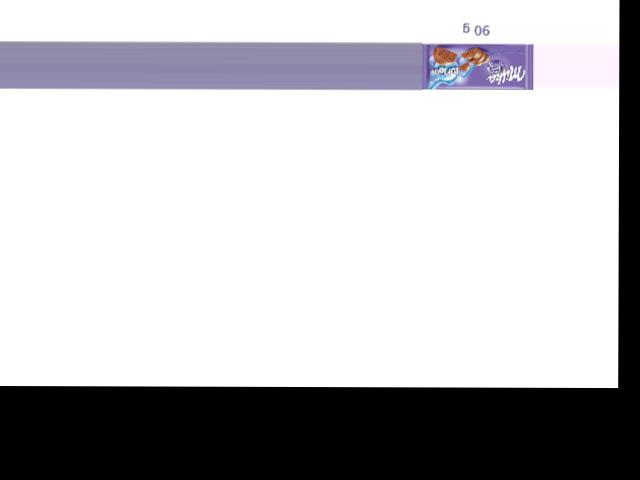chocolate: (421, 43, 531, 90)
